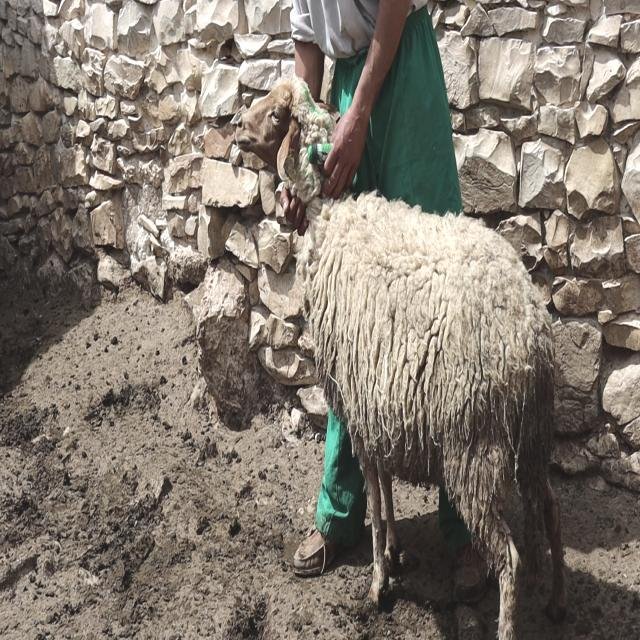Score_3: (235, 77, 567, 639)
